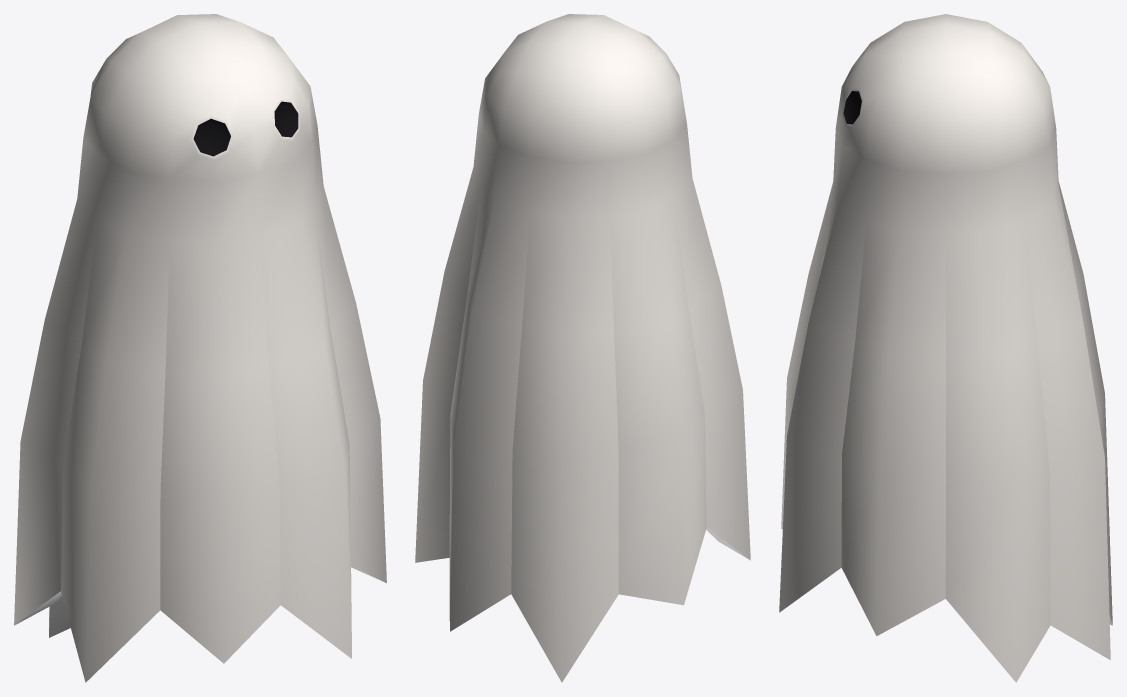
Rendered from ghost_1.gltf.glb.
3 views of the same model, side by side, from view 1: azimuth 30°, elevation 25°; view 2: azimuth 150°, elevation 25°; view 3: azimuth 270°, elevation 25° (orthographic). The views are drawn at different scales.
Parts seen in each view (by area): view 1: Ghost_1.001; view 2: Ghost_1.001; view 3: Ghost_1.001.
Boxes of the visible parts, box(x1,y1,x2,y2) form: Ghost_1.001: box(14, 14, 386, 682); Ghost_1.001: box(415, 14, 750, 682); Ghost_1.001: box(779, 14, 1112, 682).
Bounding box in the file's own units: 0.1789 × 0.3733 × 0.1789.
Materials: 1 (1 with a texture image).
